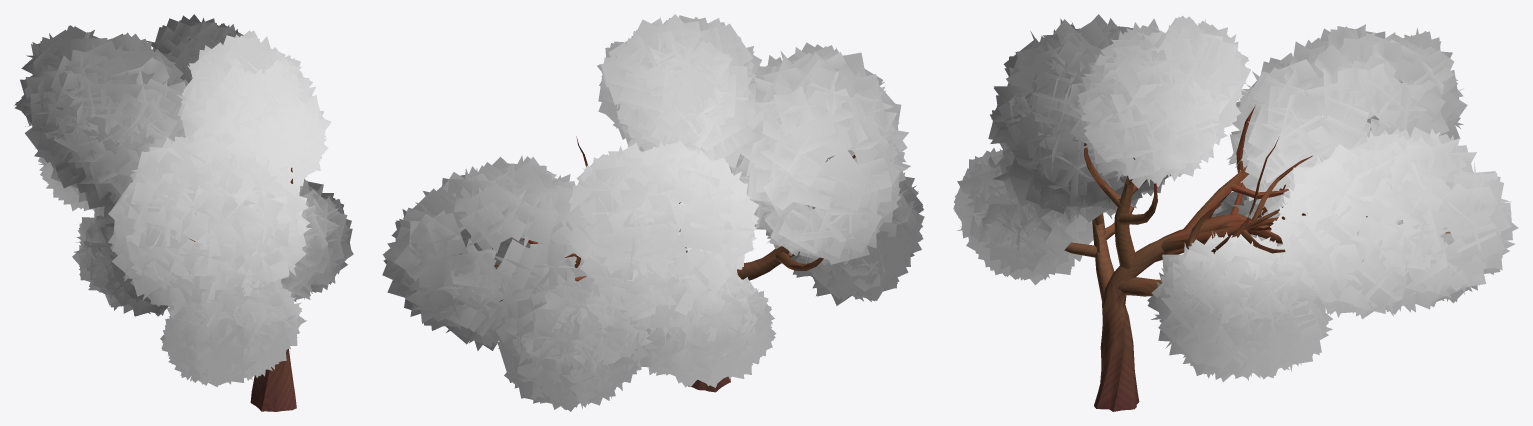
Rendered from SakuraTree.fbx.
The picture shows the model from 3 angles, left to right: view 1: azimuth 30°, elevation 25°; view 2: azimuth 150°, elevation 25°; view 3: azimuth 270°, elevation 25°; orthographic projection. The views are drawn at different scales.
Visible parts, largest first — view 1: Leavestree, TrunkLow; view 2: Leavestree, TrunkLow; view 3: Leavestree, TrunkLow.
Boxes of the visible parts, x1,y1,x2,y2 form: Leavestree: [14, 14, 353, 387]; TrunkLow: [189, 167, 296, 411]; Leavestree: [382, 14, 924, 411]; TrunkLow: [494, 136, 855, 392]; Leavestree: [953, 14, 1518, 381]; TrunkLow: [1064, 105, 1450, 411].
Bounding box in the file's own units: 12.56 × 13.56 × 18.07.
2 materials, 1 textured.
